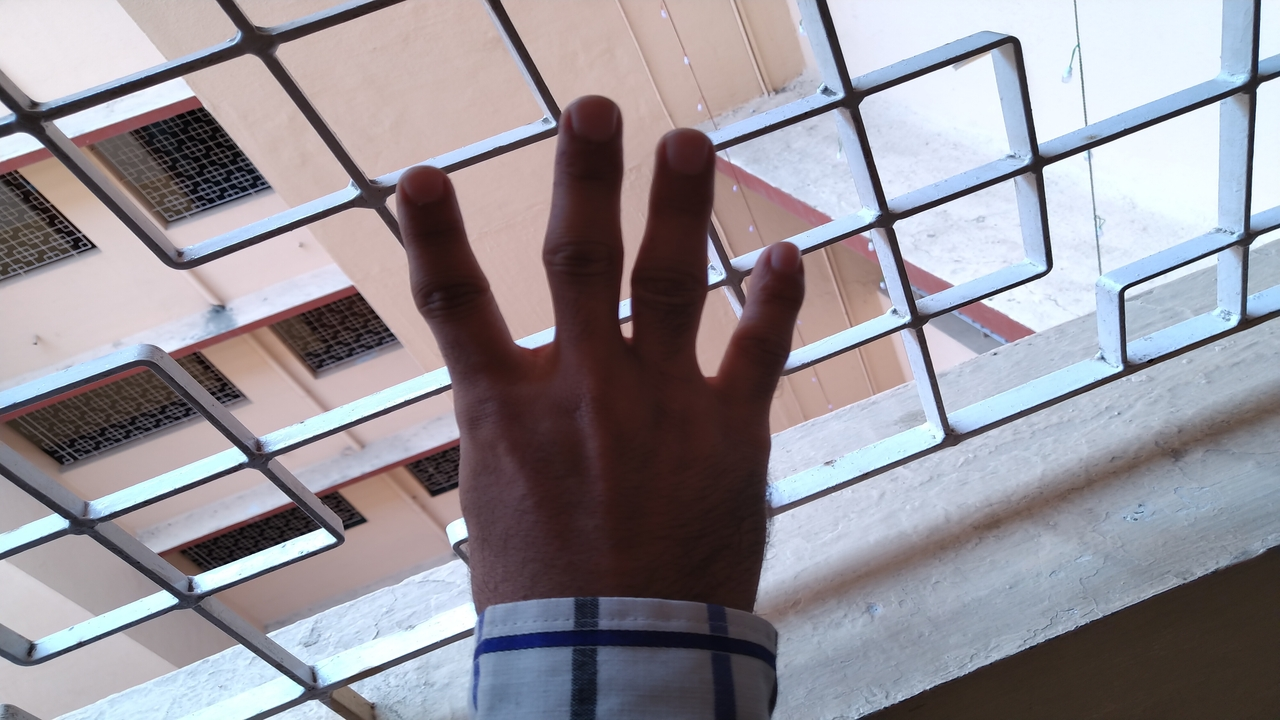fingertip: (386, 158, 458, 230), (550, 94, 628, 152), (648, 124, 718, 184), (752, 234, 812, 296)
